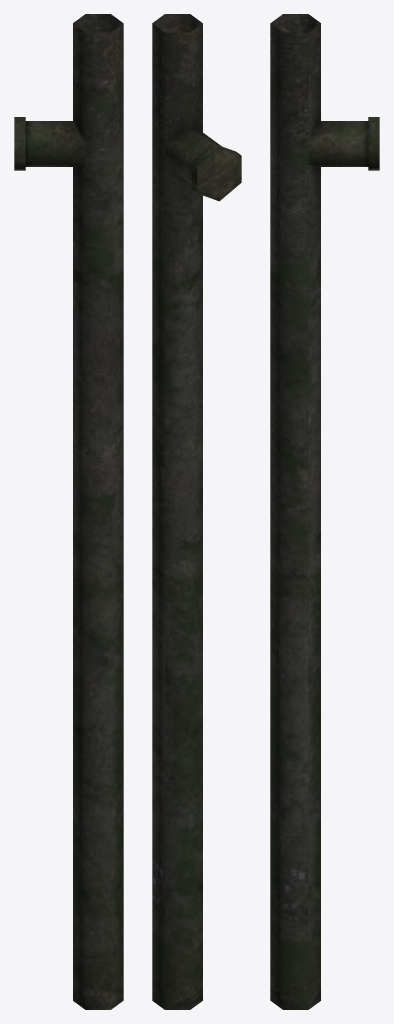
Rendered from MossyThick_TL.FBX.
3 renders of one model, left to right at view 1: azimuth 90°, elevation 25°; view 2: azimuth 210°, elevation 25°; view 3: azimuth 270°, elevation 25°, orthographic.
Parts seen in each view (by area): view 1: MossyThick_TL; view 2: MossyThick_TL; view 3: MossyThick_TL.
Boxes of the visible parts, left/top/right/bottom form: MossyThick_TL: left=14, top=14, right=123, bottom=1009; MossyThick_TL: left=152, top=14, right=241, bottom=1009; MossyThick_TL: left=270, top=14, right=379, bottom=1009.
Size of the model in its own units: 24.37 by 511 by 51.67.
